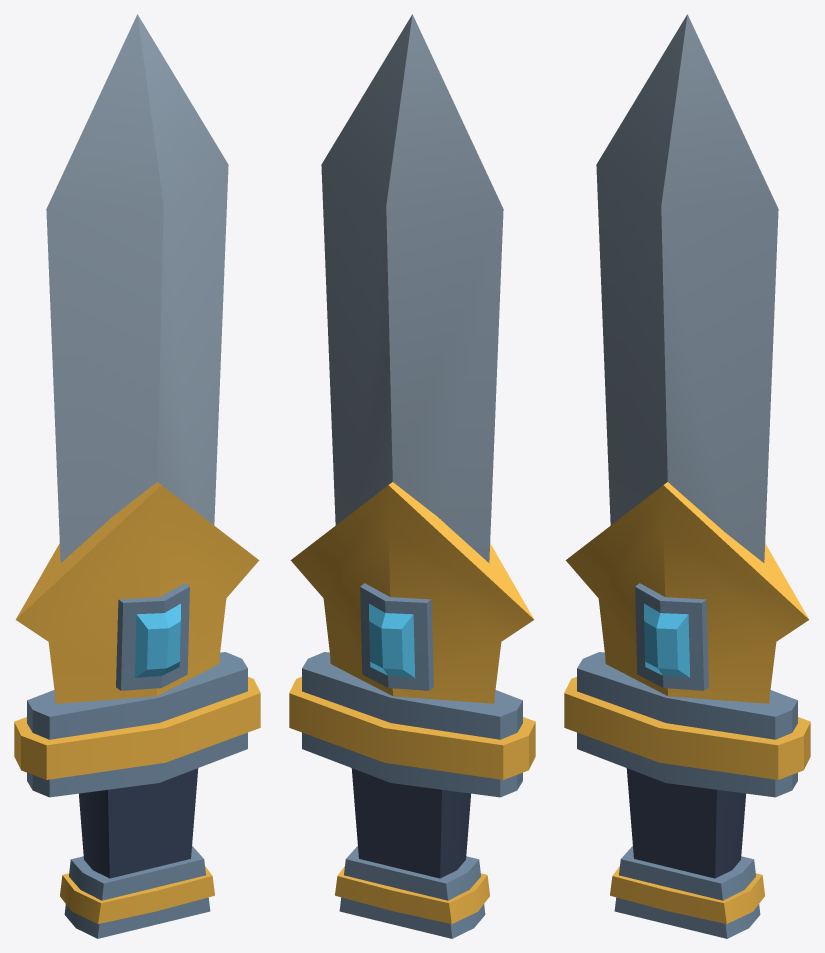
Rendered from Sword C Multi.fbx.
3 renders of one model, left to right at view 1: azimuth 30°, elevation 25°; view 2: azimuth 150°, elevation 25°; view 3: azimuth 330°, elevation 25°, orthographic.
Visible parts, largest first — view 1: Sword C; view 2: Sword C; view 3: Sword C.
Part boxes in pixels (bbox=[...]): Sword C: bbox=[14, 14, 260, 938]; Sword C: bbox=[289, 14, 535, 938]; Sword C: bbox=[564, 14, 810, 938].
Bounding box in the file's own units: 0.402 × 1.42 × 0.1778.
